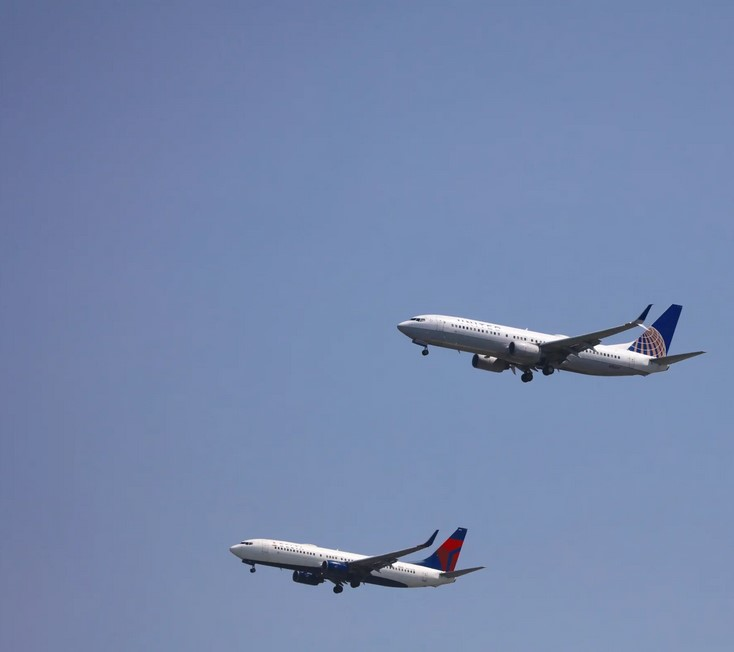plane: (397, 302, 707, 384), (229, 525, 487, 594)
